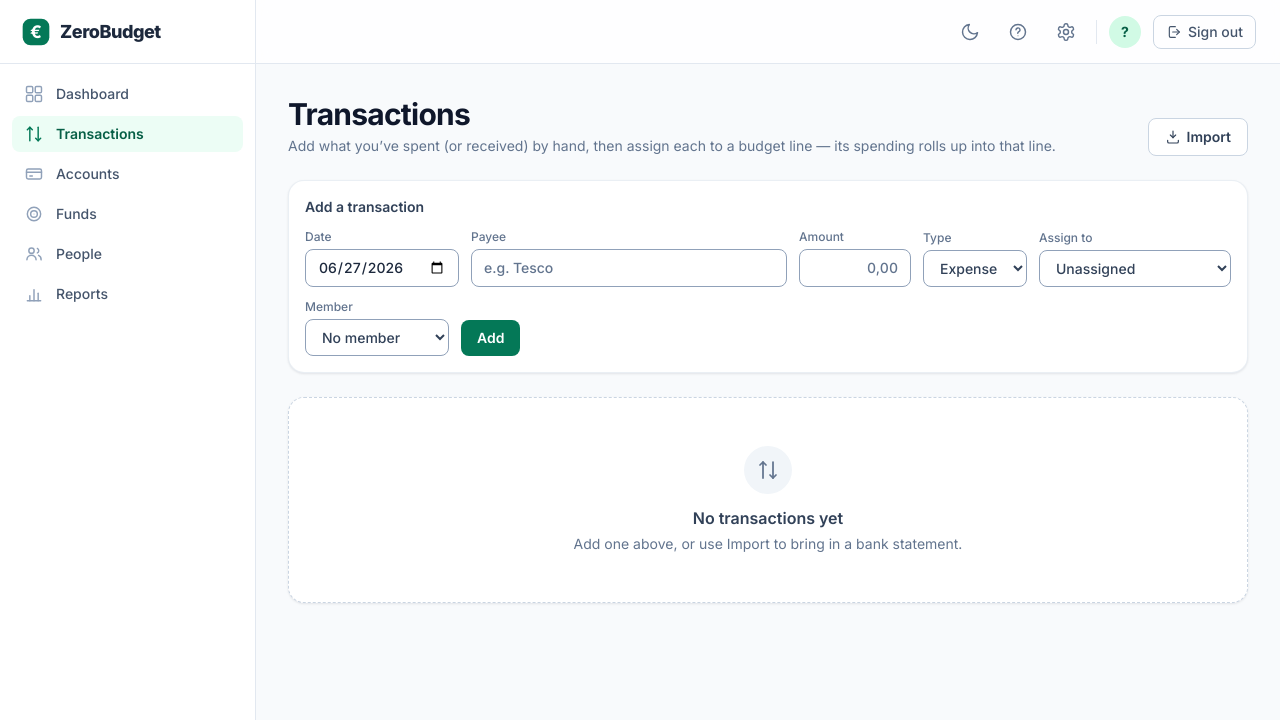
Test: TransactionsPage manual sheet › attributes a new transaction to a household member
In the field named "Transaction payee": [629, 268] box [471,249,787,287], type "Pharmacy"
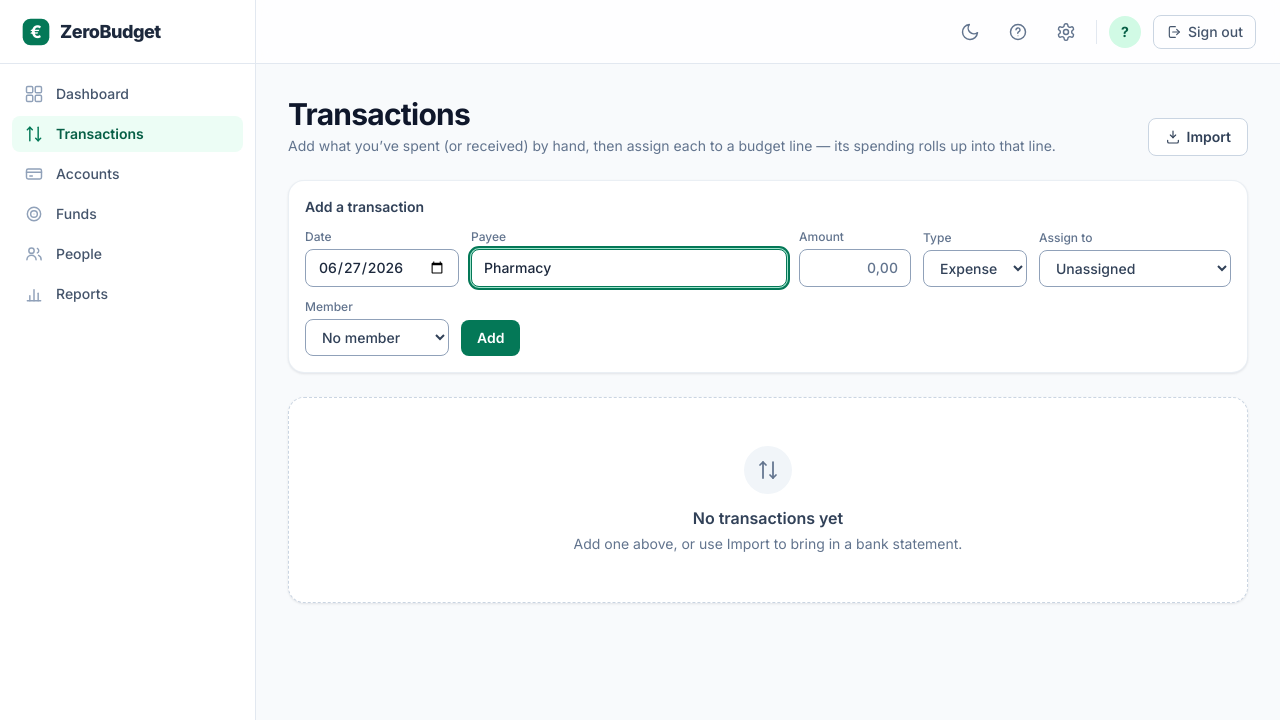
In the field named "Transaction amount": [855, 268] box [799,249,911,287], type "12,50"
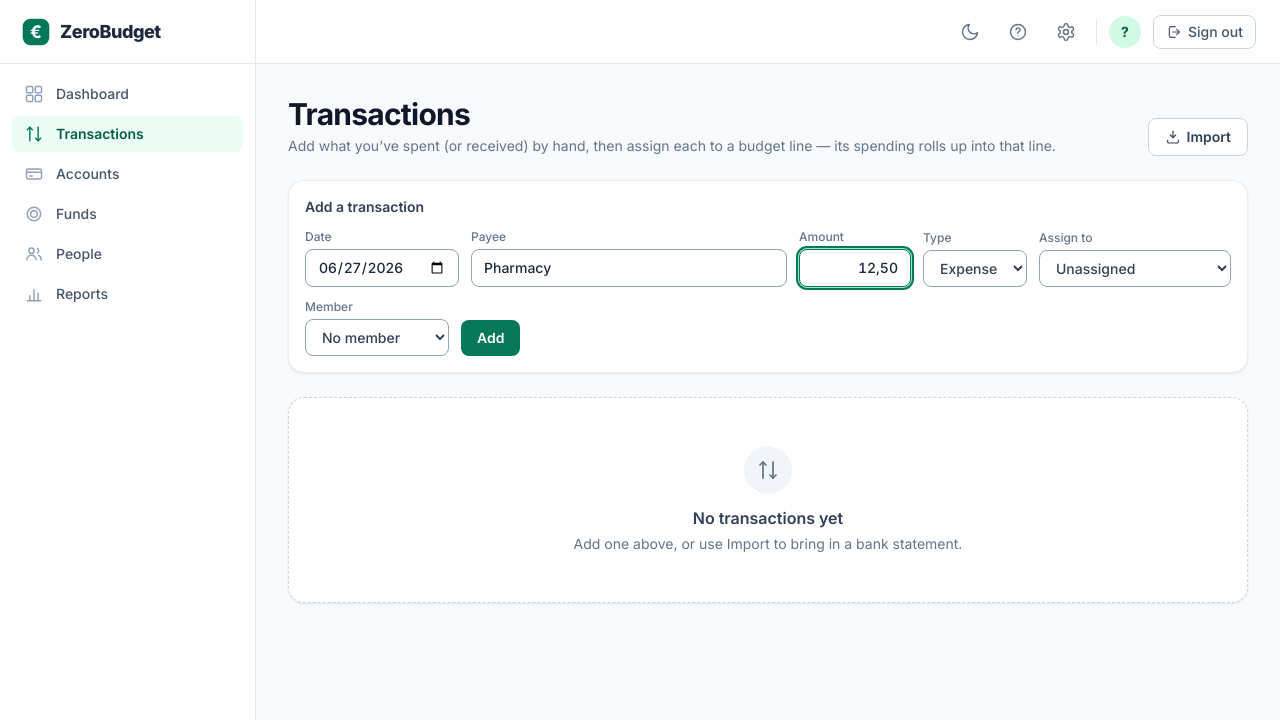
// The member select appears once members have loaded.
Select "Chris" in the dropdown named "Transaction member": [377, 338] box [305,319,449,356]
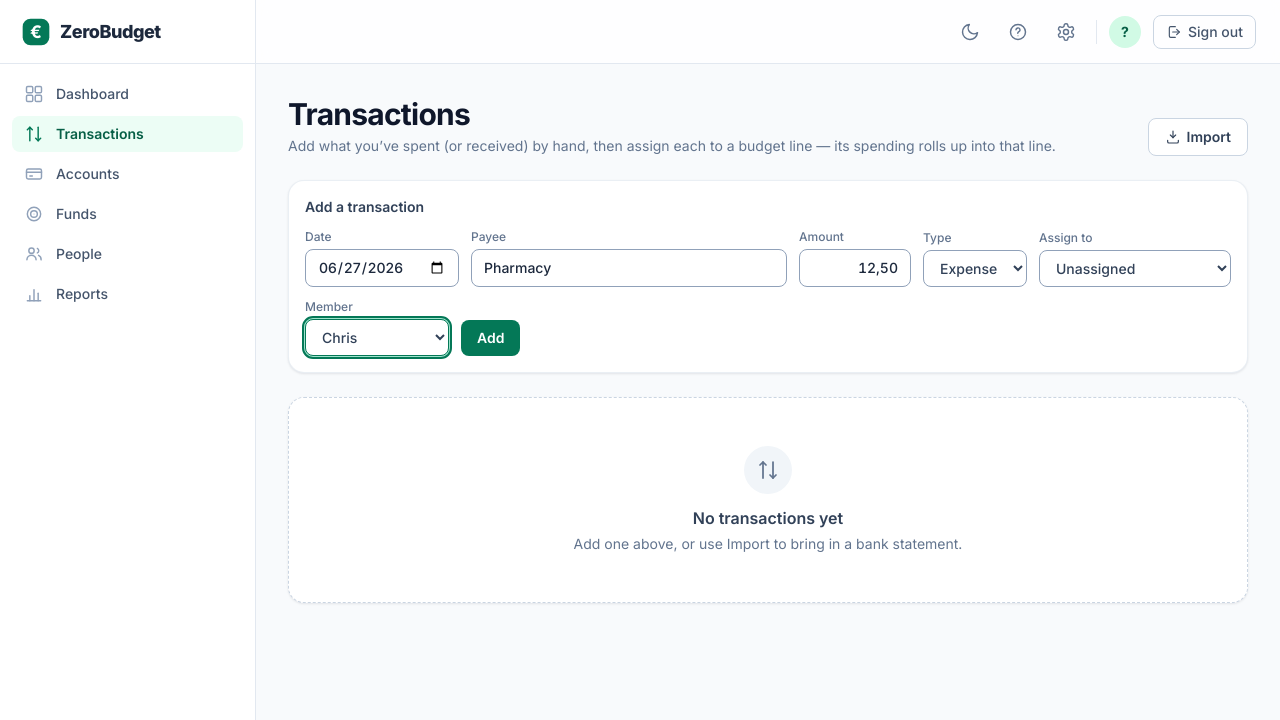
Click the button with aria-label "Add transaction": [491, 338] box [461,320,520,356]
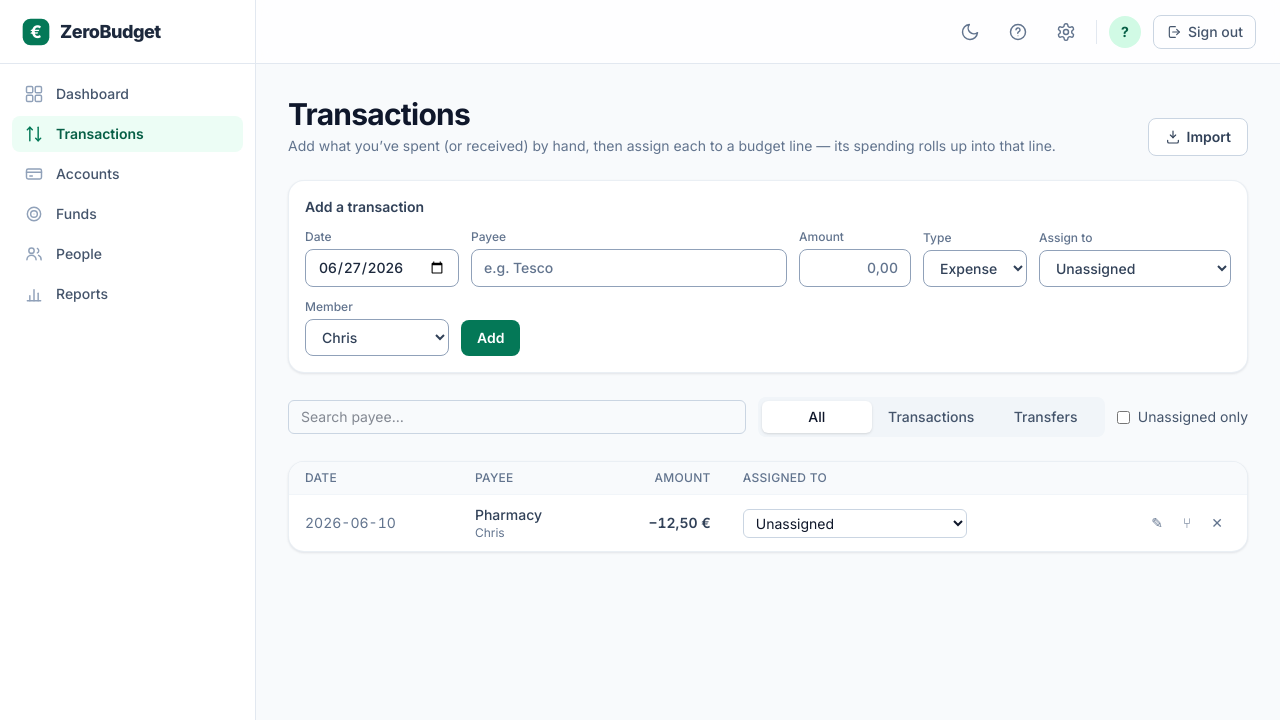
Now the text "Chris" is shown, box [475,525,505,540]
